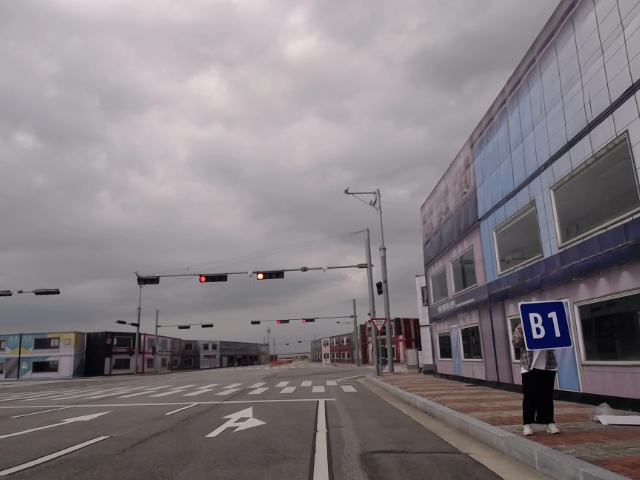delivery_b1: (519, 301, 573, 350)
red_4: (256, 271, 285, 280), (200, 275, 228, 282), (277, 320, 289, 324), (303, 319, 315, 322)
